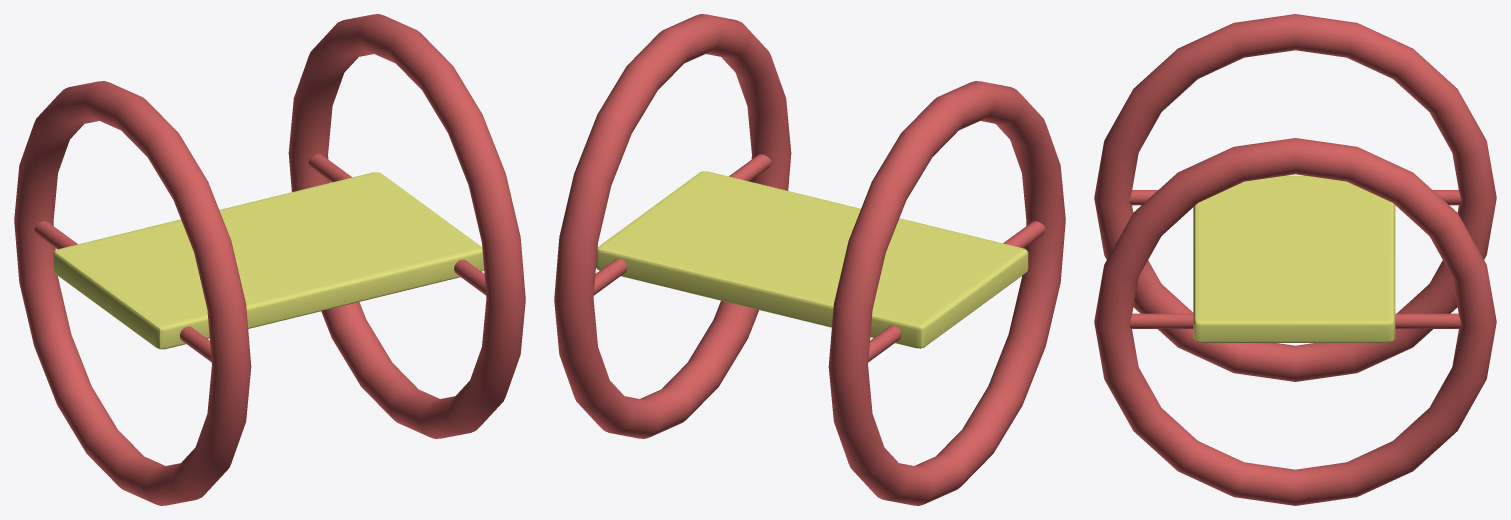
Rendered from Obstacle10.fbx.
3 views of the same model, side by side, from view 1: azimuth 30°, elevation 25°; view 2: azimuth 150°, elevation 25°; view 3: azimuth 270°, elevation 25° (orthographic). The views are drawn at different scales.
Visible parts, largest first — view 1: Plaque_msh, Roue01_msh, Roue02_msh, barre02_msh, Barre01_msh; view 2: Plaque_msh, Roue01_msh, Roue02_msh, barre02_msh, Barre01_msh; view 3: Roue02_msh, Roue01_msh, Plaque_msh, barre02_msh, Barre01_msh.
Part boxes in pixels (bbox=[...]): Plaque_msh: bbox=[53, 172, 483, 349]; Roue01_msh: bbox=[14, 81, 251, 505]; Roue02_msh: bbox=[288, 14, 525, 438]; barre02_msh: bbox=[308, 154, 486, 295]; Barre01_msh: bbox=[34, 221, 211, 361]; Plaque_msh: bbox=[596, 171, 1028, 348]; Roue01_msh: bbox=[828, 81, 1065, 505]; Roue02_msh: bbox=[554, 14, 791, 438]; barre02_msh: bbox=[593, 154, 771, 295]; Barre01_msh: bbox=[868, 221, 1045, 361]; Roue02_msh: bbox=[1094, 138, 1496, 505]; Roue01_msh: bbox=[1094, 14, 1496, 381]; Plaque_msh: bbox=[1193, 175, 1395, 342]; barre02_msh: bbox=[1129, 313, 1461, 328]; Barre01_msh: bbox=[1129, 190, 1461, 205].
Bounding box in the file's own units: 7.15 × 8.18 × 8.18.
